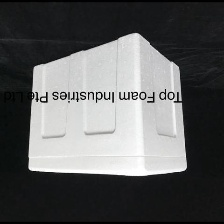foam_box: (22, 28, 194, 182)
